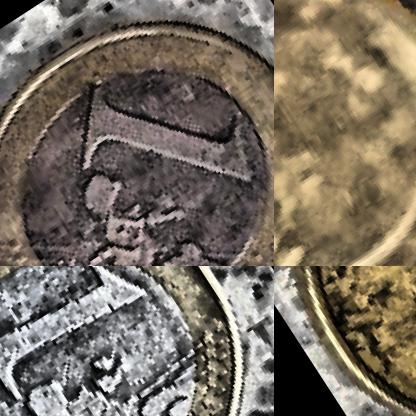coin: (0, 0, 273, 265), (0, 266, 273, 415), (274, 0, 415, 265), (274, 266, 415, 415)
